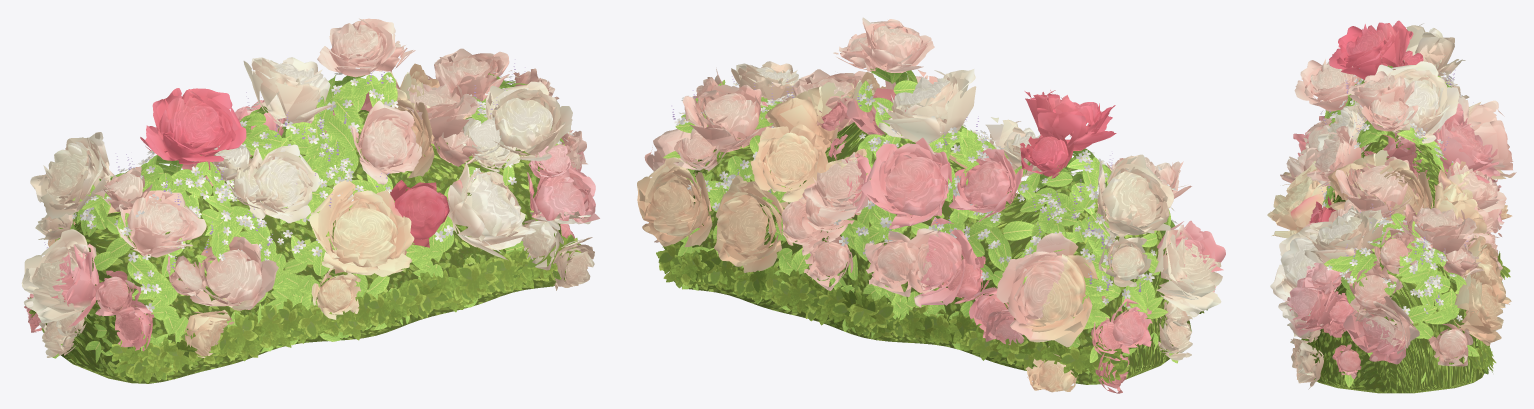
Rendered from FlowerBank_1m_sample_A_1002_v16.glb.
3 renders of one model, left to right at view 1: azimuth 30°, elevation 25°; view 2: azimuth 150°, elevation 25°; view 3: azimuth 270°, elevation 25°, orthographic. The views are drawn at different scales.
Parts seen in each view (by area): view 1: FlowerBank_1m; view 2: FlowerBank_1m; view 3: FlowerBank_1m.
Part boxes in pixels (<box>): FlowerBank_1m: <box>21,18,599,383</box>; FlowerBank_1m: <box>637,17,1225,393</box>; FlowerBank_1m: <box>1267,20,1516,393</box>.
Size of the model in its own units: 1.32 by 0.6006 by 0.5877.
Materials: 6 (5 with a texture image).
